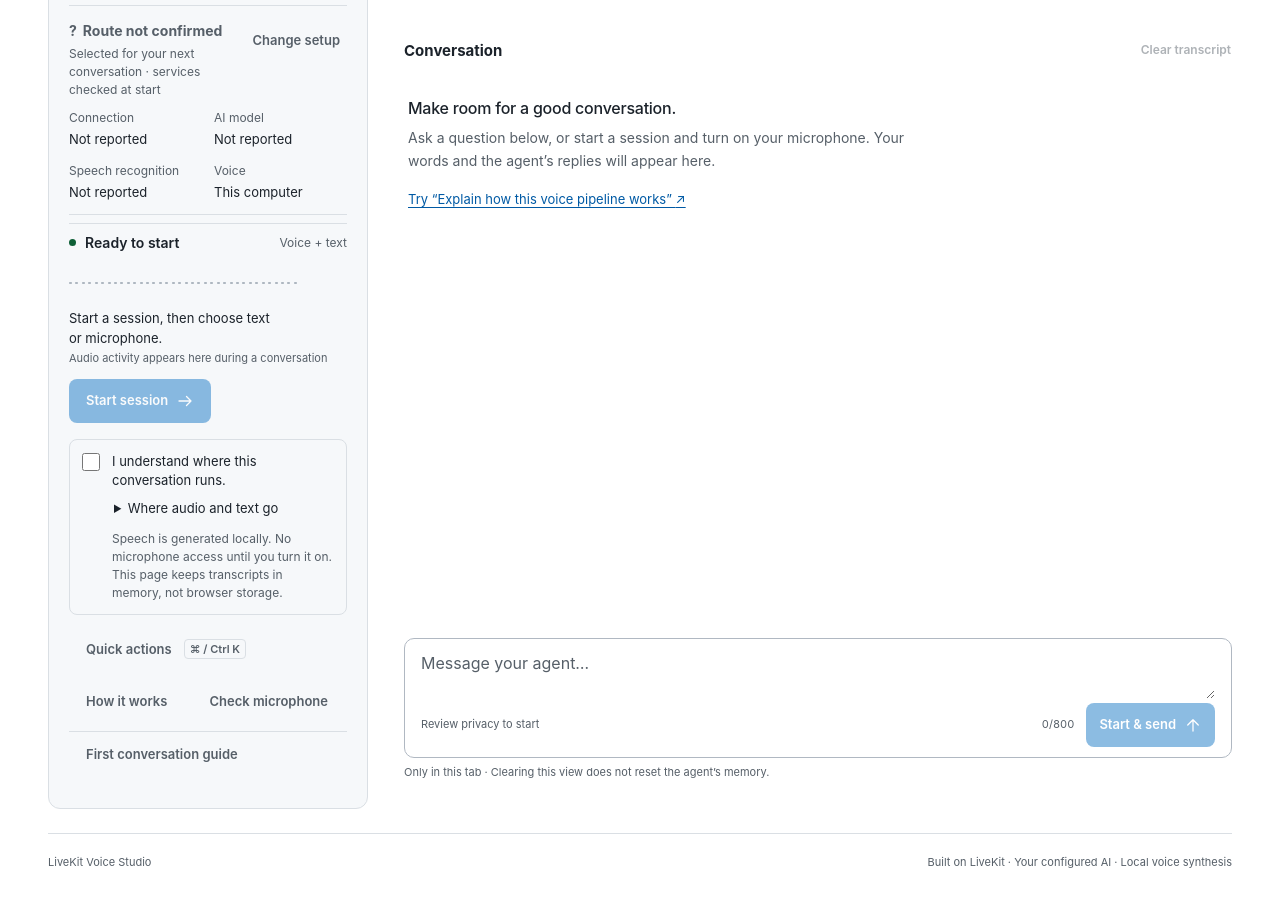
it: typed-first and keyboard interaction › explains standalone voice bundles without implying Voicebox must stay open
The width and height of the screenshot is (1280, 900).
(page scrolled)
Step 1. Click the button "How it works" → (127, 701), box left=69, top=679, right=184, bottom=723
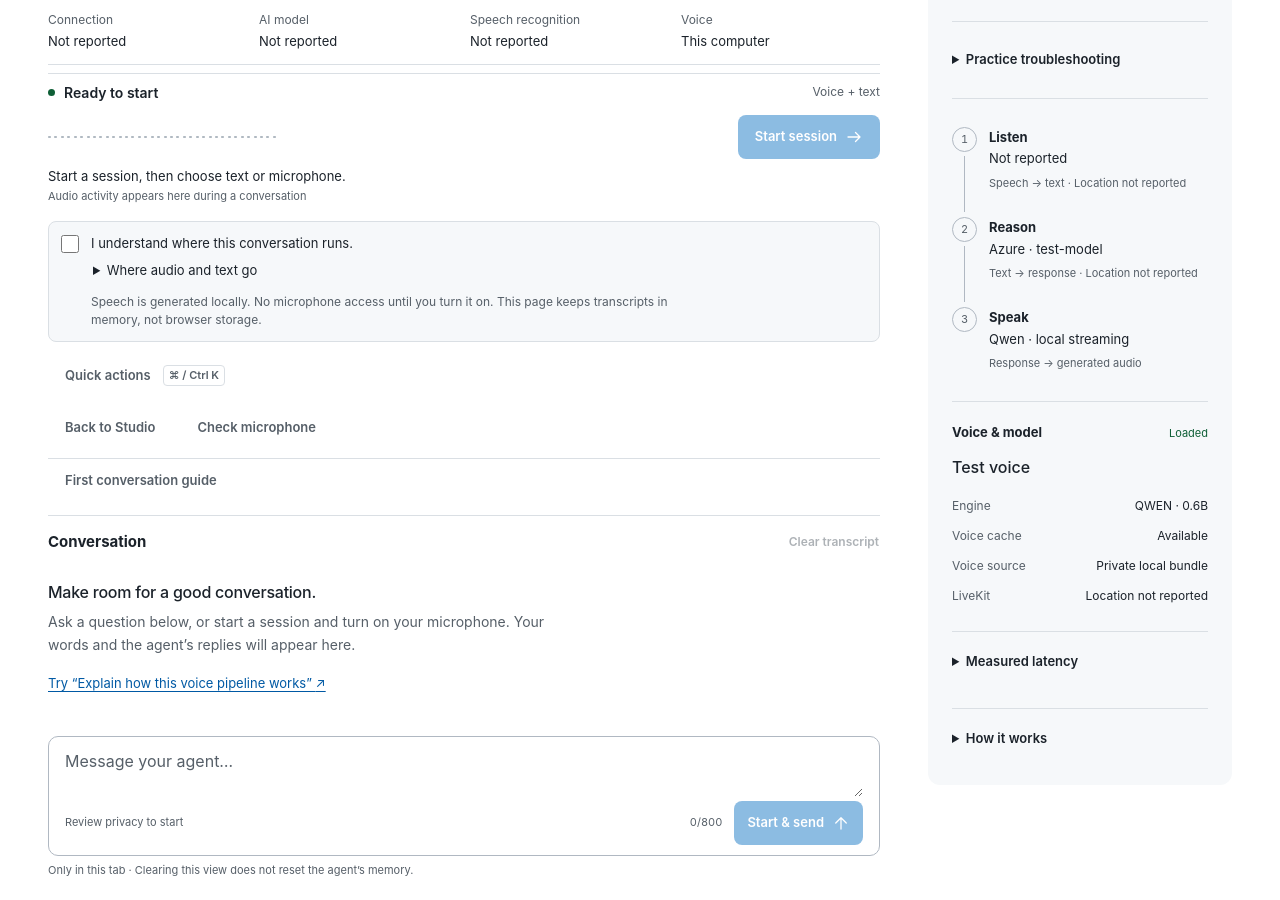
Now the text "Private local bundle" is shown, box left=1096, top=557, right=1208, bottom=575
